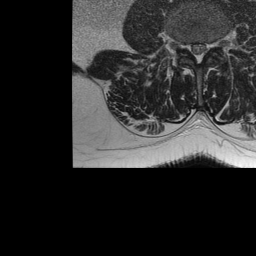CCS_normal: (195, 36, 202, 70)
LFS_stenosis: (211, 34, 218, 54)
LLS_normal: (203, 37, 211, 59)
RFS_stenosis: (179, 34, 186, 57)
RLS_normal: (186, 35, 194, 60)
